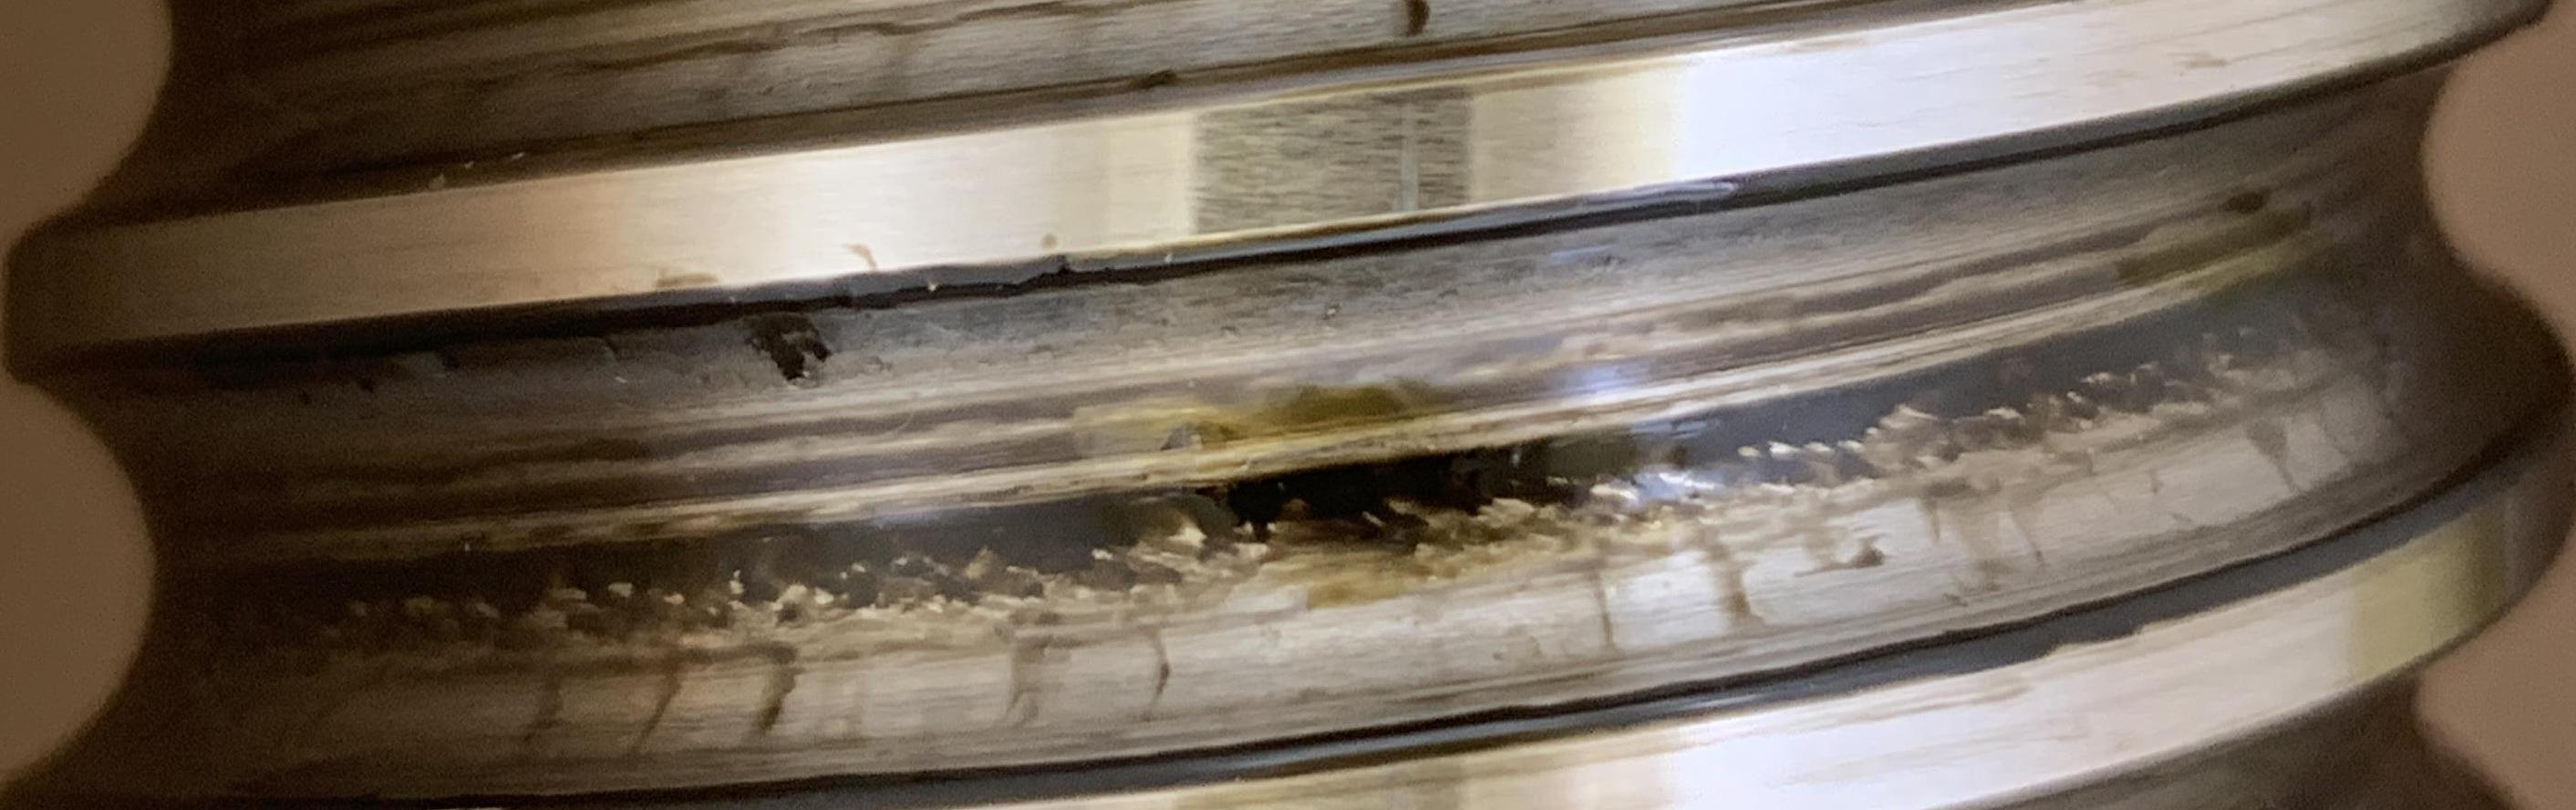pitting: (741, 314, 833, 381)
